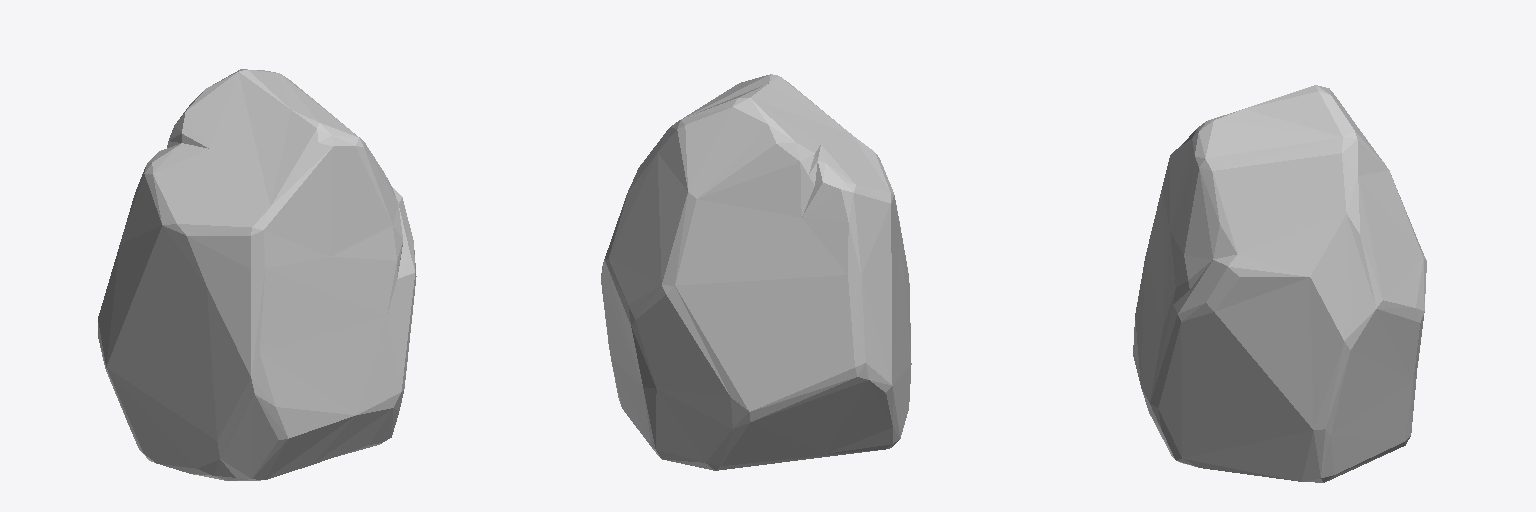
Rendered from SmallRock2.obj.
3 renders of one model, left to right at view 1: azimuth 30°, elevation 25°; view 2: azimuth 150°, elevation 25°; view 3: azimuth 270°, elevation 25°, orthographic.
Visible parts, largest first — view 1: rock2; view 2: rock2; view 3: rock2.
Part boxes in pixels (x1,y1,x2,y2): rock2: (98,69,416,480); rock2: (601,74,911,470); rock2: (1133,85,1426,482).
Bounding box in the file's own units: 66.32 × 79.15 × 61.6.